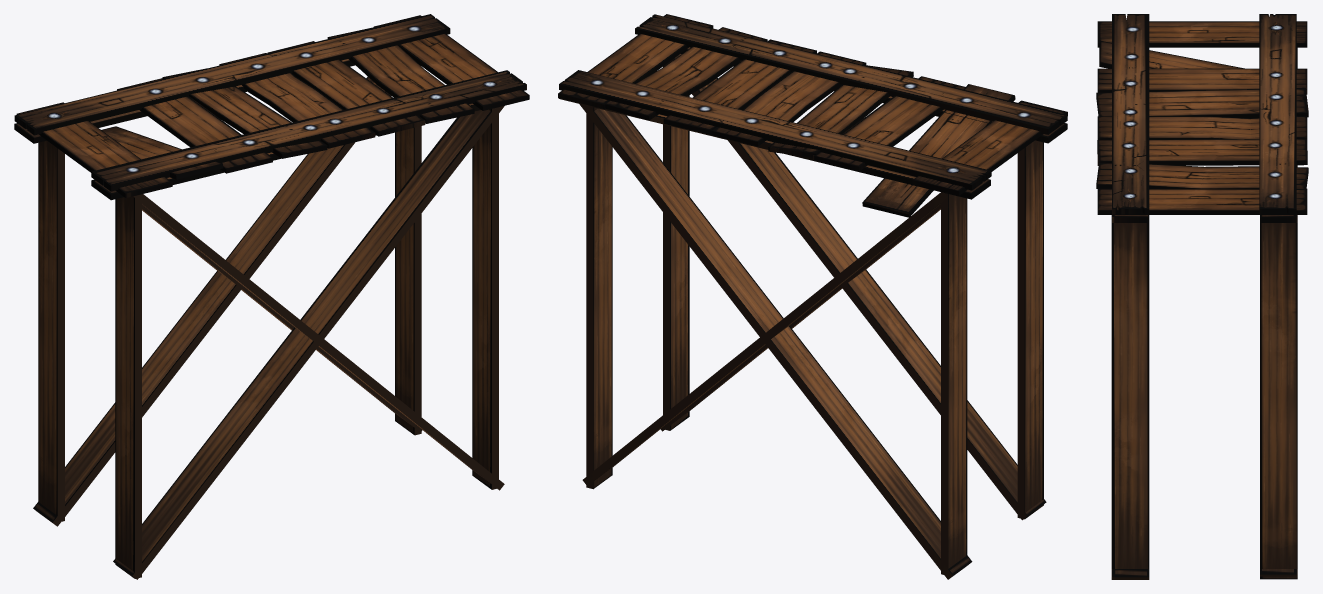
The model's file is Bridge.fbx.
3 renders of one model, left to right at view 1: azimuth 30°, elevation 25°; view 2: azimuth 150°, elevation 25°; view 3: azimuth 270°, elevation 25°, orthographic. The views are drawn at different scales.
Visible parts, largest first — view 1: Bridge; view 2: Bridge; view 3: Bridge.
Boxes of the visible parts, left/top/right/bottom form: Bridge: left=14, top=14, right=529, bottom=579; Bridge: left=558, top=14, right=1067, bottom=579; Bridge: left=1096, top=14, right=1308, bottom=579.
Size of the model in its own units: 932 by 866 by 429.
